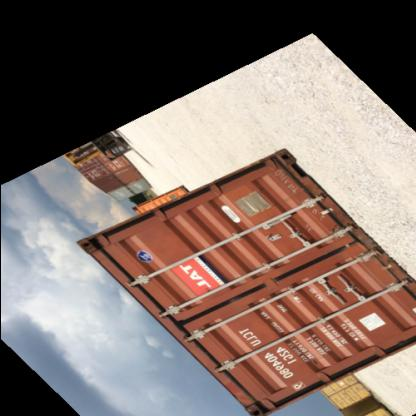Damage: (320, 236, 364, 254)
